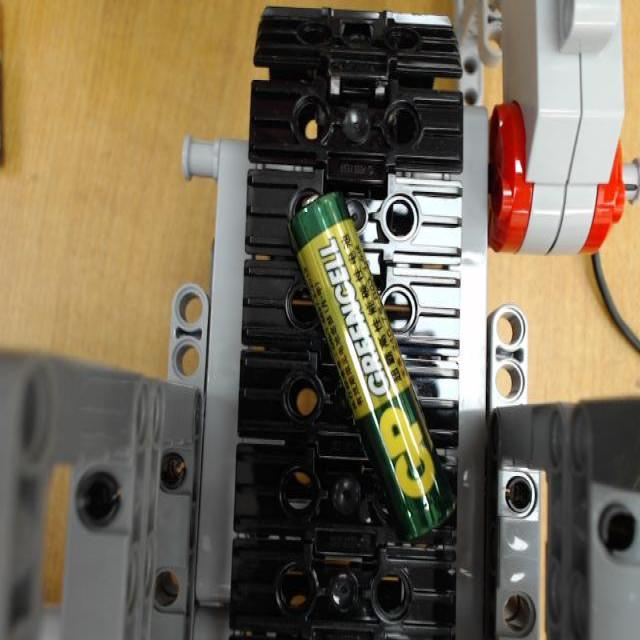AAA: (288, 189, 456, 542)
